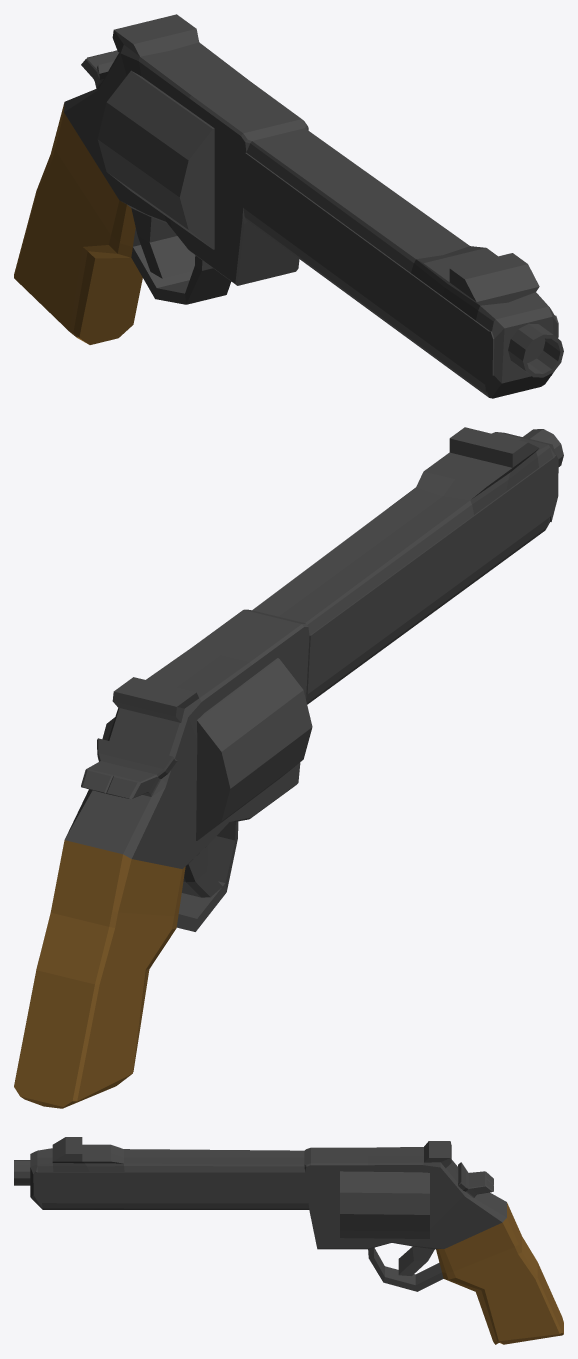
Rendered from revolver.fbx.
3 views of the same model, one above another, from view 1: azimuth 30°, elevation 25°; view 2: azimuth 150°, elevation 25°; view 3: azimuth 270°, elevation 25° (orthographic). The views are drawn at different scales.
Visible parts, largest first — view 1: Cube; view 2: Cube; view 3: Cube.
Part boxes in pixels (x1,y1,x2,y2): Cube: [14, 14, 563, 398]; Cube: [14, 427, 563, 1108]; Cube: [14, 1137, 563, 1344].
Size of the model in its own units: 76.58 by 197 by 501.
